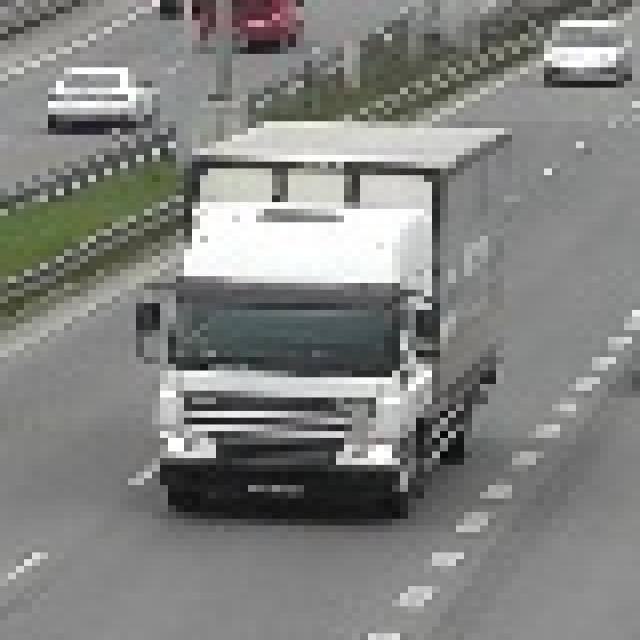truck: (128, 108, 512, 512)
